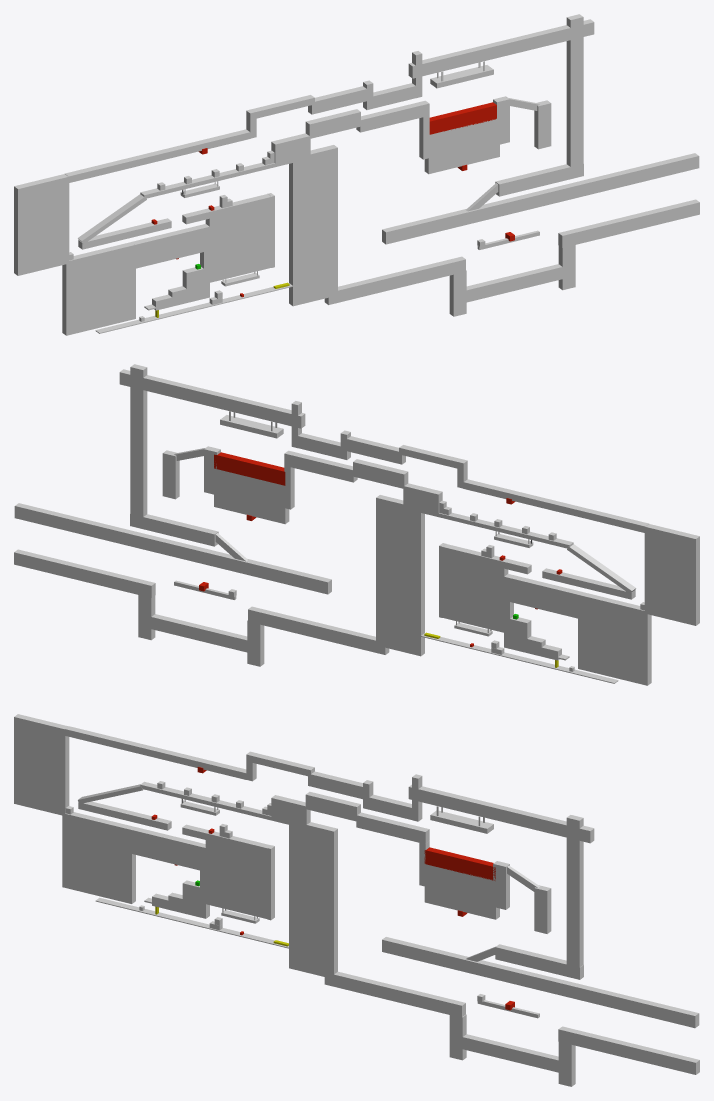
File: Fase 01.fbx
The picture shows the model from 3 angles, top to bottom: view 1: azimuth 30°, elevation 25°; view 2: azimuth 150°, elevation 25°; view 3: azimuth 330°, elevation 25°; orthographic projection.
Parts seen in each view (by area): view 1: Cube.022, Cube.001, Cube.074, Cube.038, Cube.015, Cube.059, Cube.066, Cube.071, Cube.078, Cube.076, Cube.006, Cube.041 (+20 smaller); view 2: Cube.022, Cube.001, Cube.074, Cube.038, Cube.015, Cube.059, Cube.066, Cube.071, Cube.078, Cube.076, Cube.006, Cube.041 (+20 smaller); view 3: Cube.022, Cube.001, Cube.074, Cube.038, Cube.015, Cube.059, Cube.066, Cube.071, Cube.078, Cube.076, Cube.006, Cube.041 (+20 smaller).
Part boxes in pixels (box(x1,y1,x2,y2)): Cube.022: box(289, 145, 337, 306); Cube.001: box(62, 242, 135, 335); Cube.074: box(382, 153, 699, 244); Cube.038: box(14, 174, 69, 275); Cube.015: box(205, 203, 271, 282); Cube.059: box(408, 19, 594, 78); Cube.066: box(424, 118, 499, 174); Cube.071: box(566, 14, 583, 176); Cube.078: box(558, 199, 699, 247); Cube.076: box(324, 256, 465, 304); Cube.006: box(132, 224, 210, 268); Cube.041: box(65, 129, 250, 182); Cube.022: box(376, 495, 424, 656); Cube.001: box(578, 592, 651, 685); Cube.074: box(14, 503, 331, 594); Cube.038: box(644, 524, 699, 625); Cube.015: box(442, 550, 508, 632); Cube.059: box(119, 369, 305, 428); Cube.066: box(214, 469, 289, 524); Cube.071: box(130, 364, 147, 523); Cube.078: box(14, 549, 155, 597); Cube.076: box(248, 606, 389, 654); Cube.006: box(503, 574, 581, 618); Cube.041: box(463, 479, 648, 532); Cube.022: box(289, 822, 337, 979); Cube.001: box(62, 812, 135, 903); Cube.074: box(382, 937, 699, 1028); Cube.038: box(14, 714, 69, 815); Cube.015: box(205, 837, 267, 919); Cube.059: box(408, 784, 594, 843); Cube.066: box(424, 864, 499, 919); Cube.071: box(566, 815, 583, 976); Cube.078: box(558, 1026, 699, 1074); Cube.076: box(324, 971, 465, 1017); Cube.006: box(131, 827, 206, 871); Cube.041: box(64, 726, 246, 779).
Size of the model in its own units: 30516 by 11580 by 515.
